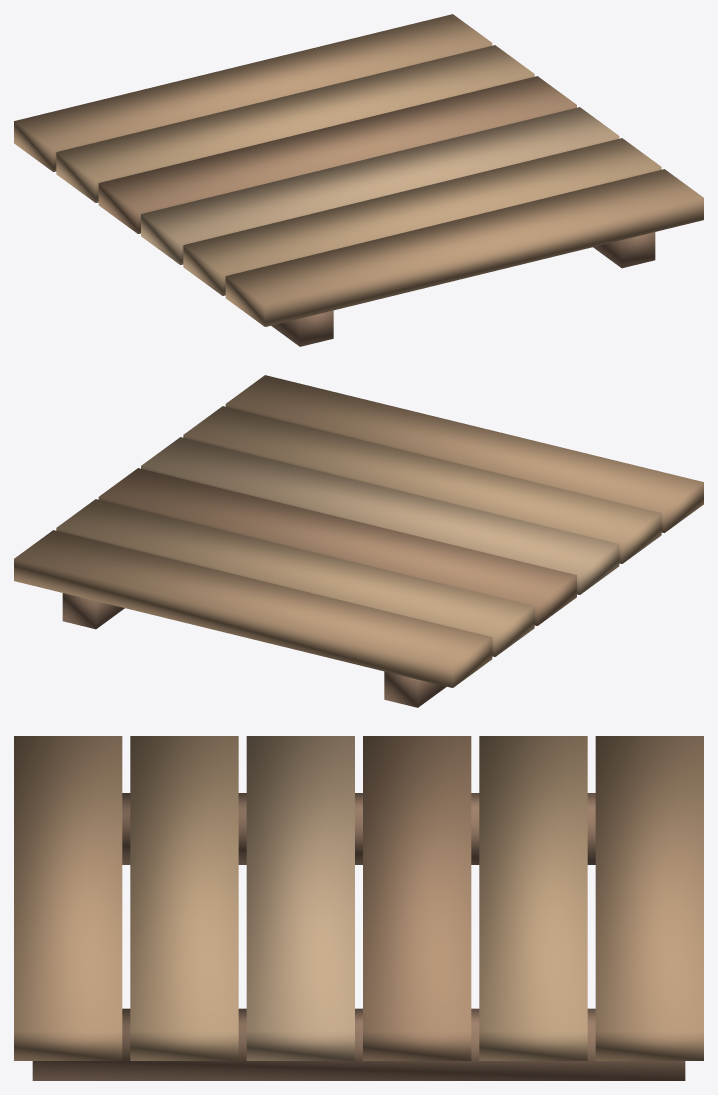
The picture shows the model from 3 angles, top to bottom: view 1: azimuth 30°, elevation 25°; view 2: azimuth 150°, elevation 25°; view 3: azimuth 270°, elevation 25°; orthographic projection. The views are drawn at different scales.
Visible parts, largest first — view 1: world; view 2: world; view 3: world.
Part boxes in pixels (<box>): world: <box>14,14,703,346</box>; world: <box>14,375,703,707</box>; world: <box>14,736,703,1080</box>.
Bounding box in the file's own units: 1.96 × 0.2445 × 1.95.
